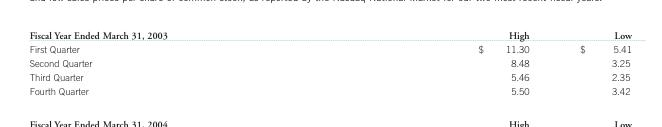table: (28, 29, 630, 95)
table column: (28, 29, 322, 95), (322, 29, 553, 95), (553, 29, 630, 95)
table column header: (28, 29, 630, 41)
table row: (28, 41, 630, 55), (28, 55, 630, 69), (28, 69, 630, 83), (28, 29, 630, 41), (28, 83, 630, 95)
